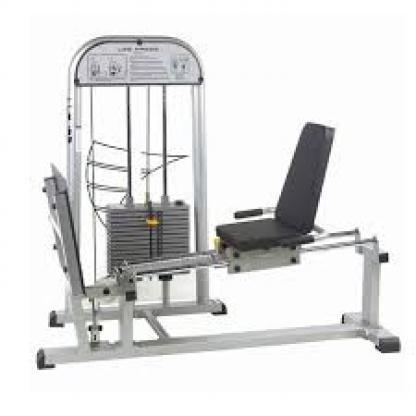leg press: (28, 26, 406, 376)
